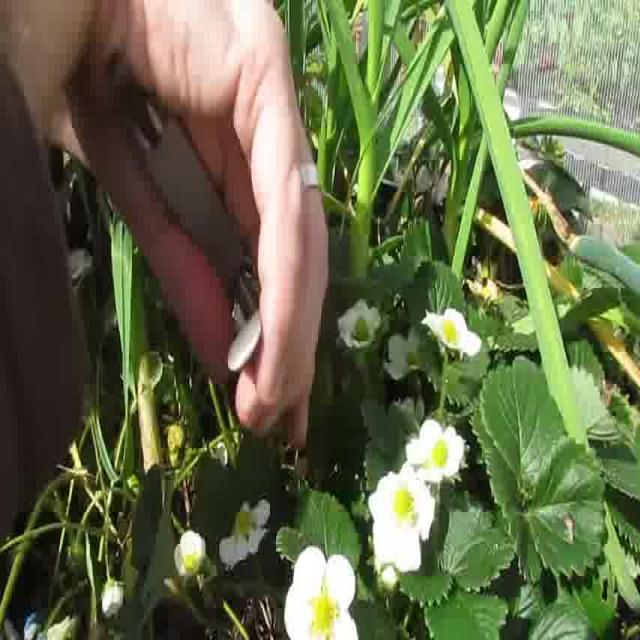Fruta sana: (352, 315, 369, 343)
